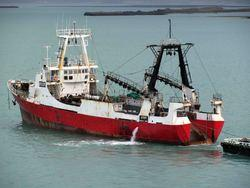otherboat: (6, 12, 226, 148)
